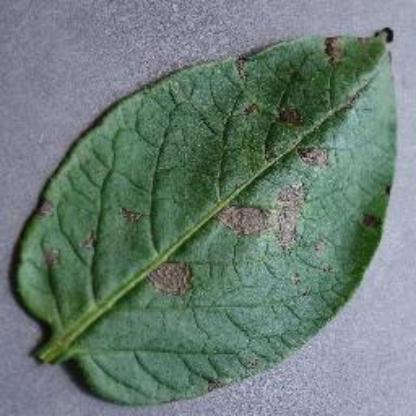Early-Blight: (15, 22, 400, 405)
